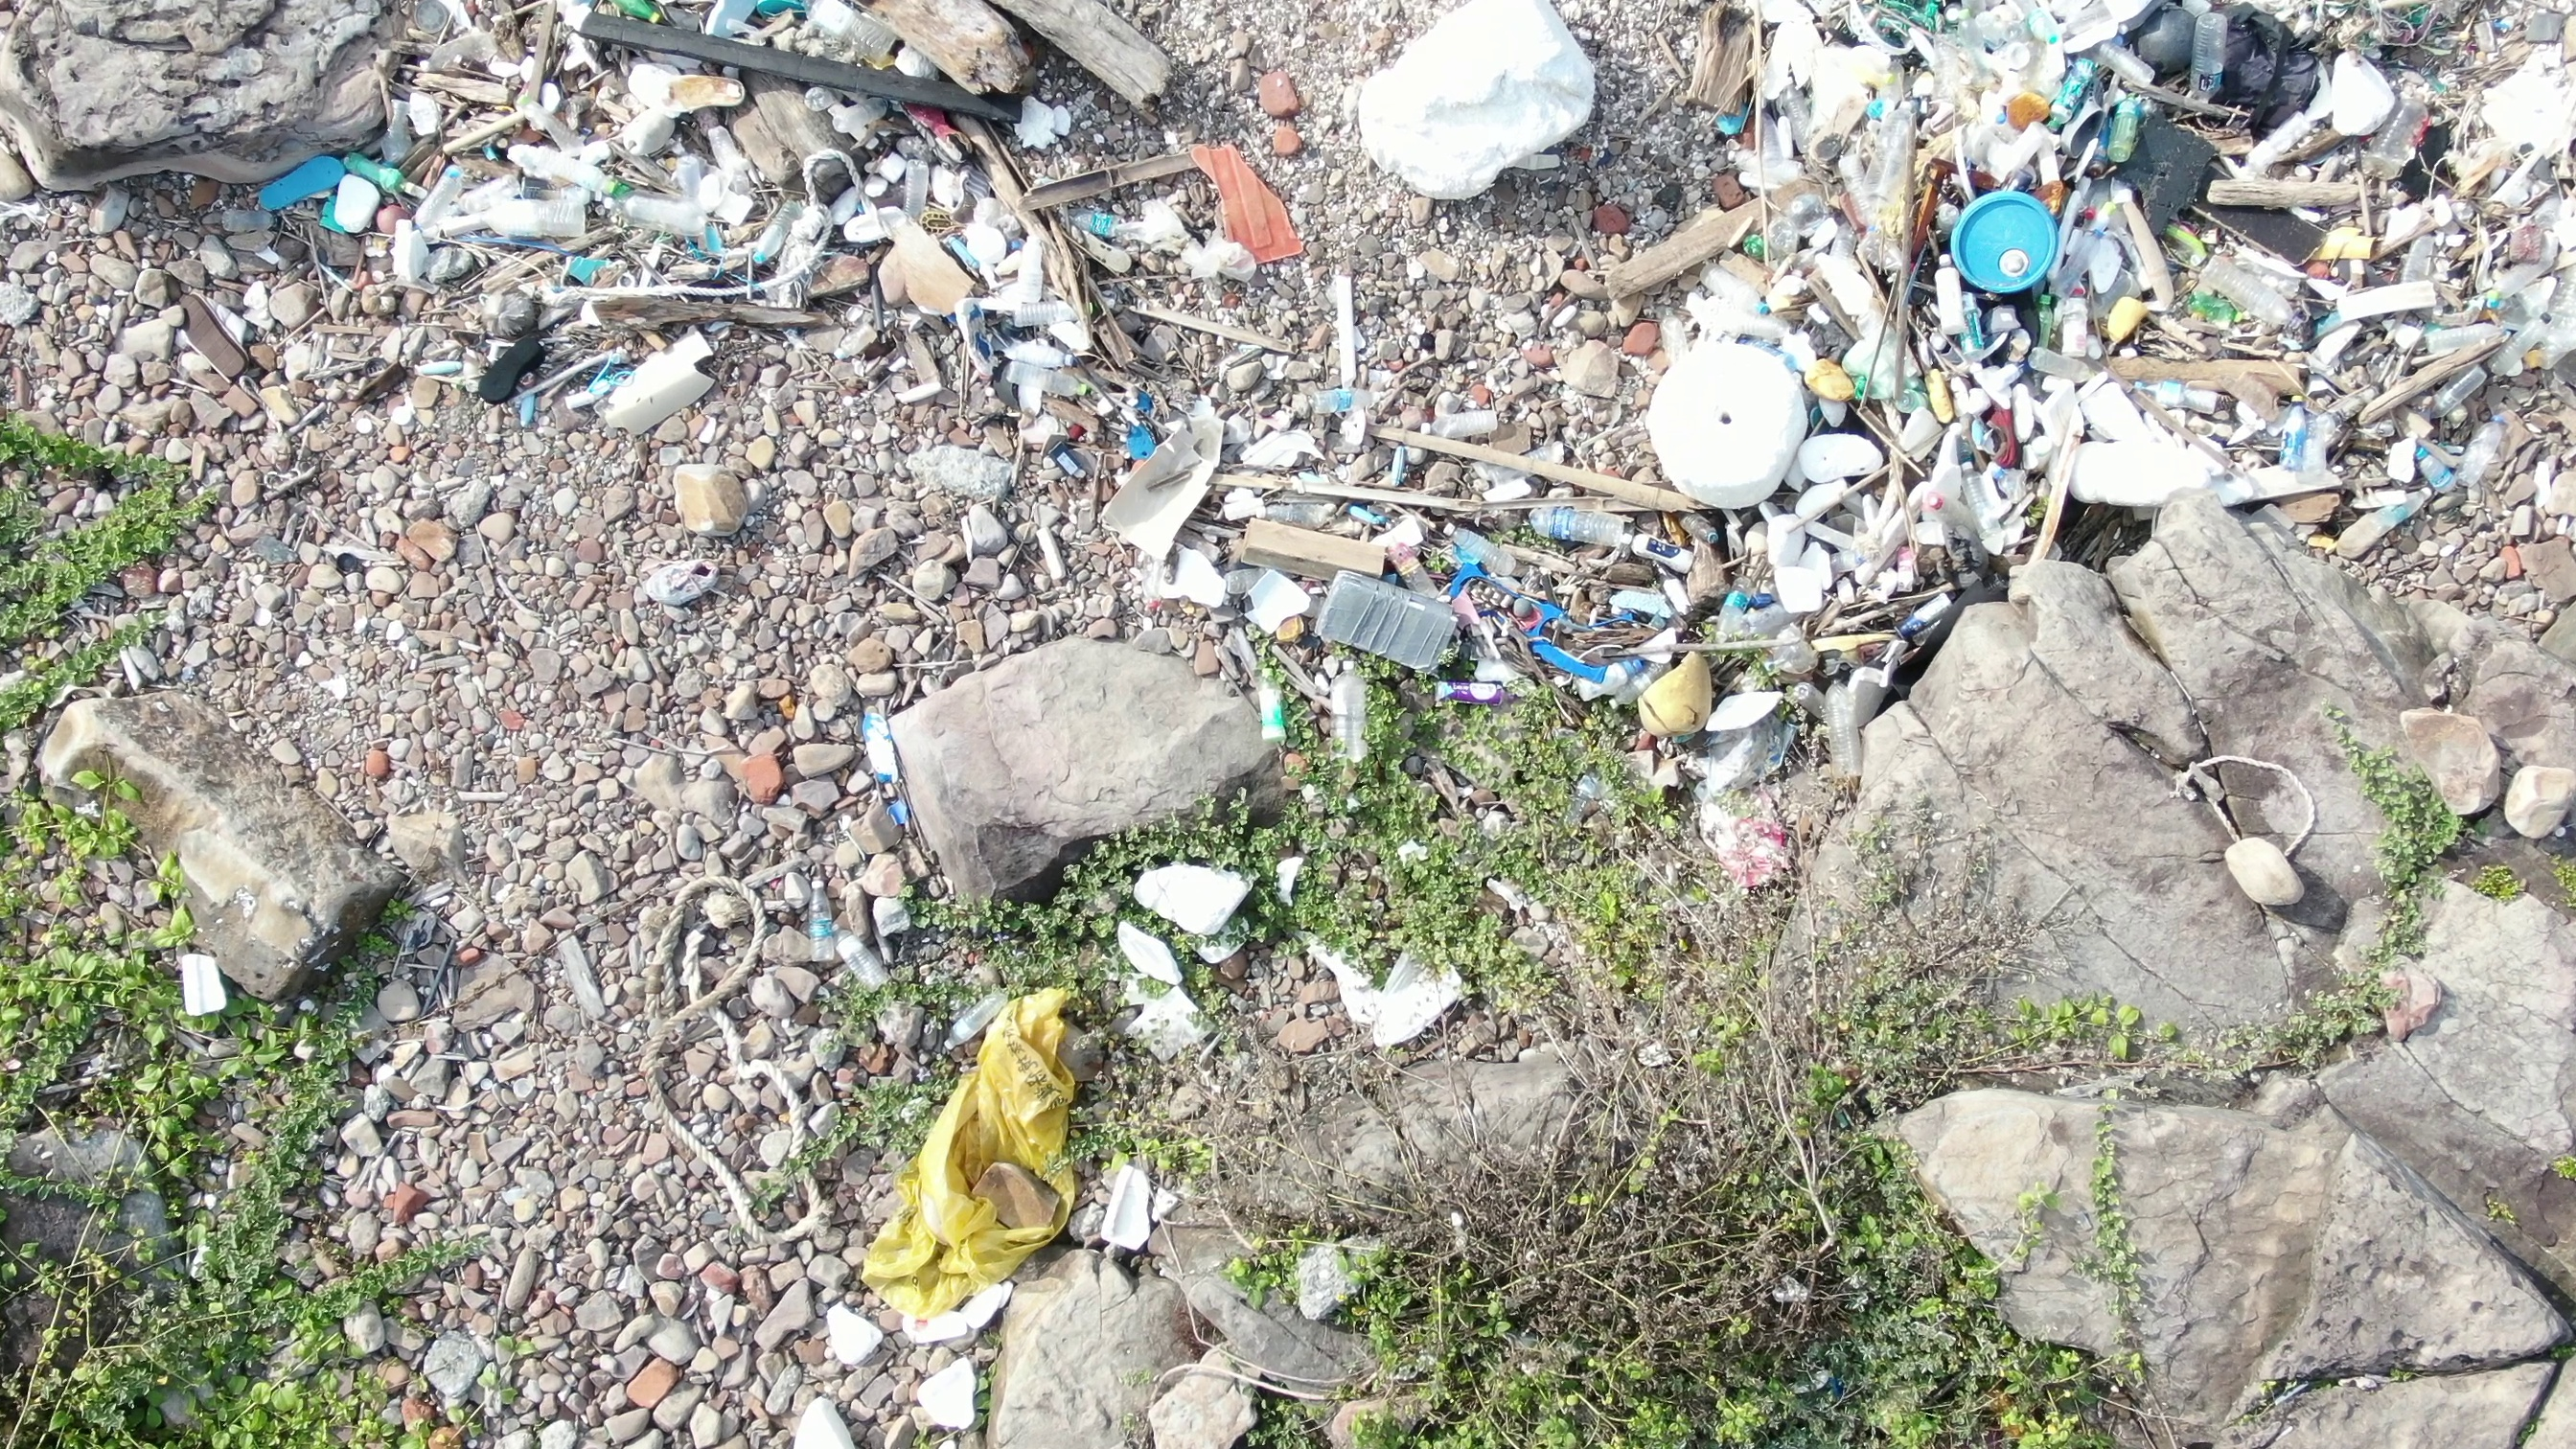bottle: (1323, 644, 1391, 796), (1518, 488, 1644, 550), (2397, 419, 2486, 502), (800, 862, 856, 977), (2419, 359, 2505, 425), (2327, 495, 2419, 556), (1249, 653, 1292, 768), (1822, 671, 1865, 786), (2272, 395, 2325, 476), (2102, 85, 2153, 168)
garbage: (1647, 18, 2576, 582), (244, 2, 1350, 441), (1067, 433, 1962, 764), (849, 971, 1095, 1339), (1109, 835, 1499, 1062), (798, 685, 924, 982), (1663, 782, 1796, 904), (168, 941, 251, 1026)
